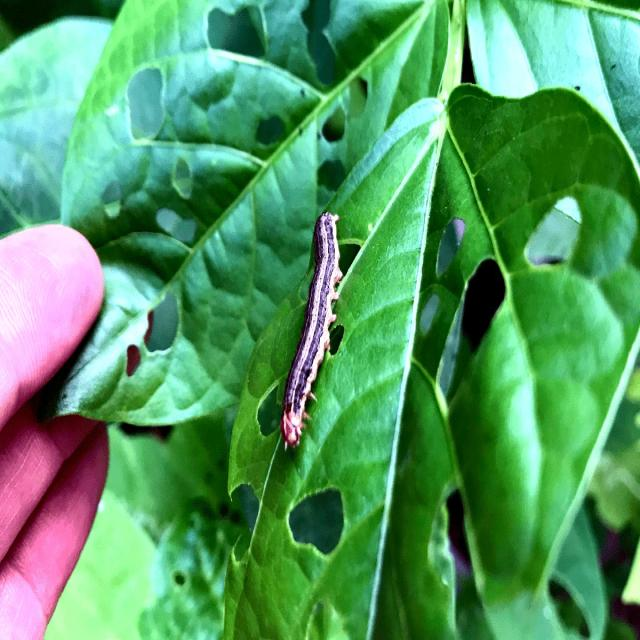armyworm: (279, 210, 343, 451)
